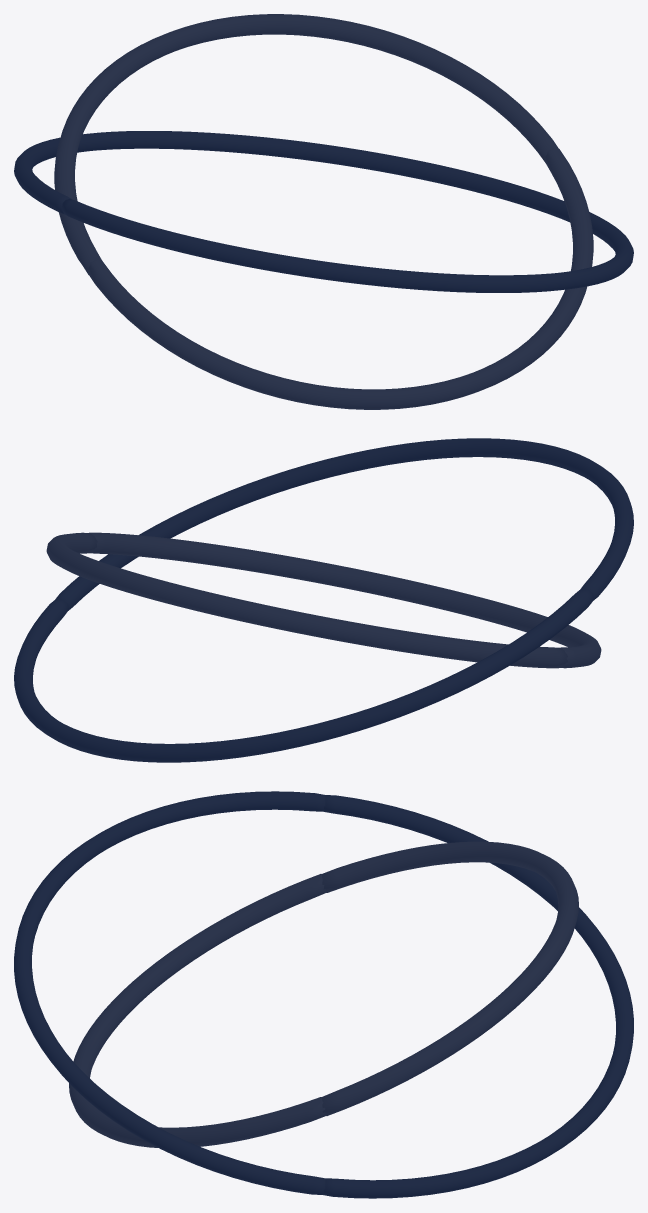
File: orbit_double.glb
3 renders of one model, top to bottom at view 1: azimuth 30°, elevation 25°; view 2: azimuth 150°, elevation 25°; view 3: azimuth 270°, elevation 25°, orthographic. The views are drawn at different scales.
Visible parts, largest first — view 1: ring1_b.001_ol, ring1_f.001_ol, ring2_b.001_ol, ring2_f.001_ol; view 2: ring2_f.001_ol, ring2_b.001_ol, ring1_f.001_ol, ring1_b.001_ol; view 3: ring2_b.001_ol, ring2_f.001_ol, ring1_f.001_ol, ring1_b.001_ol.
Boxes of the visible parts, box(x1,y1,x2,y2) form: ring1_b.001_ol: box(87, 148, 593, 409); ring1_f.001_ol: box(54, 14, 558, 274); ring2_b.001_ol: box(61, 199, 633, 292); ring2_f.001_ol: box(14, 131, 570, 222); ring2_f.001_ol: box(14, 588, 594, 762); ring2_b.001_ol: box(55, 438, 633, 610); ring1_f.001_ol: box(46, 532, 567, 668); ring1_b.001_ol: box(89, 532, 601, 668); ring2_b.001_ol: box(14, 791, 325, 1194); ring2_f.001_ol: box(322, 795, 633, 1198); ring1_f.001_ol: box(322, 841, 578, 1115); ring1_b.001_ol: box(69, 874, 325, 1147).
Size of the model in its own units: 3.04 by 1.09 by 3.1.
